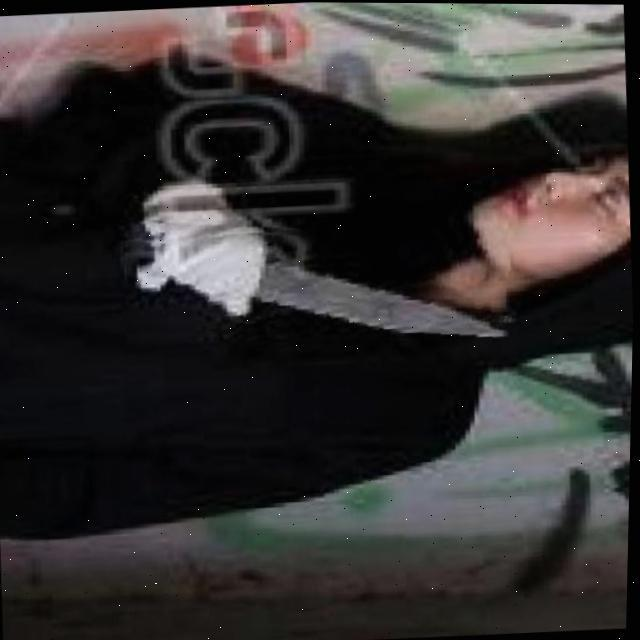knife: (120, 212, 516, 348)
